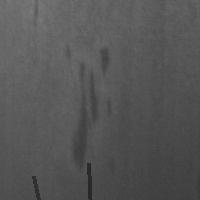inclusion: (68, 43, 117, 173), (96, 40, 114, 80), (31, 1, 42, 25), (86, 161, 92, 200), (31, 174, 40, 200)
